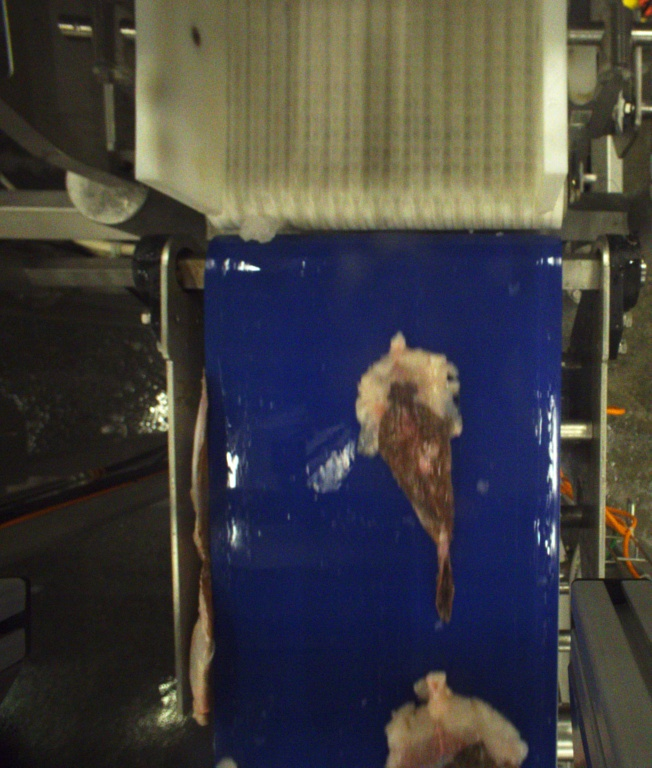ANF: (354, 330, 461, 620)
